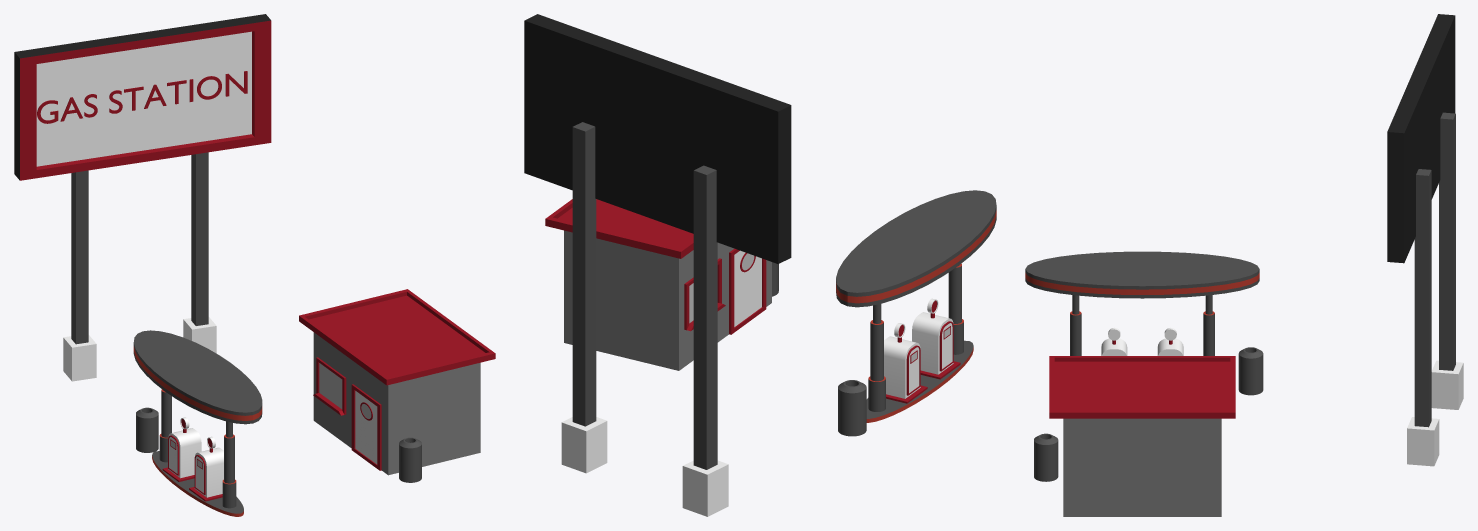
The model's file is gasstation.fbx.
The picture shows the model from 3 angles, left to right: view 1: azimuth 30°, elevation 25°; view 2: azimuth 150°, elevation 25°; view 3: azimuth 270°, elevation 25°; orthographic projection. The views are drawn at different scales.
Visible parts, largest first — view 1: Cylinder.003; view 2: Cylinder.003; view 3: Cylinder.003.
Boxes of the visible parts, left/top/right/bottom form: Cylinder.003: left=14, top=14, right=495, bottom=516; Cylinder.003: left=524, top=14, right=996, bottom=516; Cylinder.003: left=1025, top=14, right=1463, bottom=516.
Bounding box in the file's own units: 1673 × 1830 × 2042.
1 material, 1 textured.
